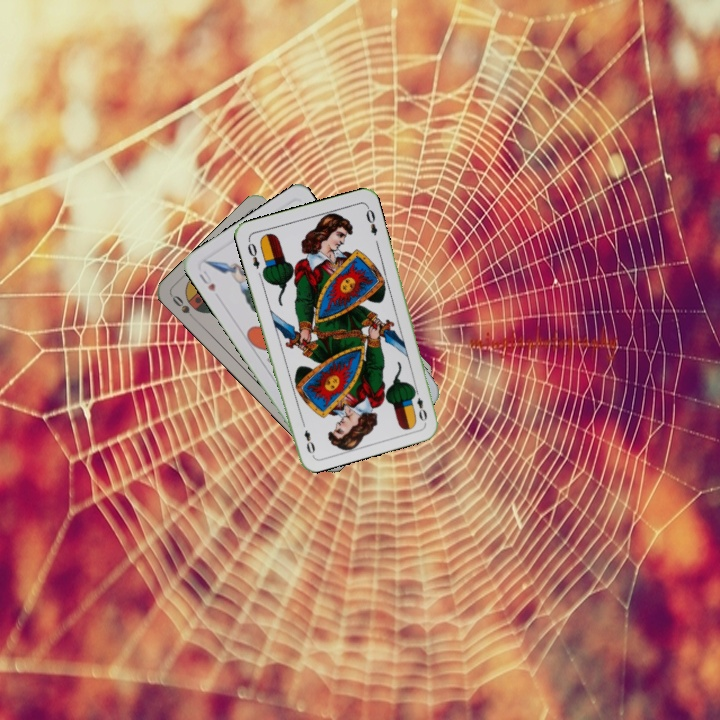EO: (409, 384, 430, 424), (243, 239, 262, 271)
HU: (195, 265, 218, 294)
SO: (168, 291, 200, 324)
